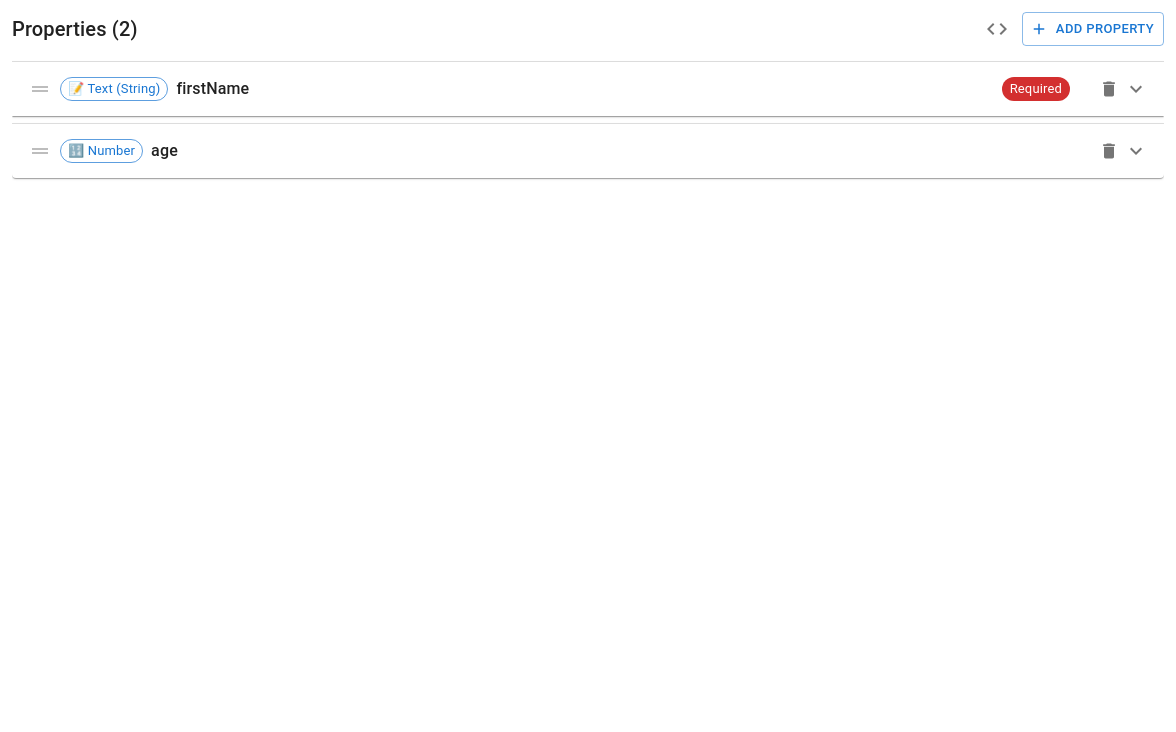
PropertySchemaBuilder › expands property details when clicked
The width and height of the screenshot is (1176, 732).
Click the text "firstName" at (213, 89), box [176,77,249,101]
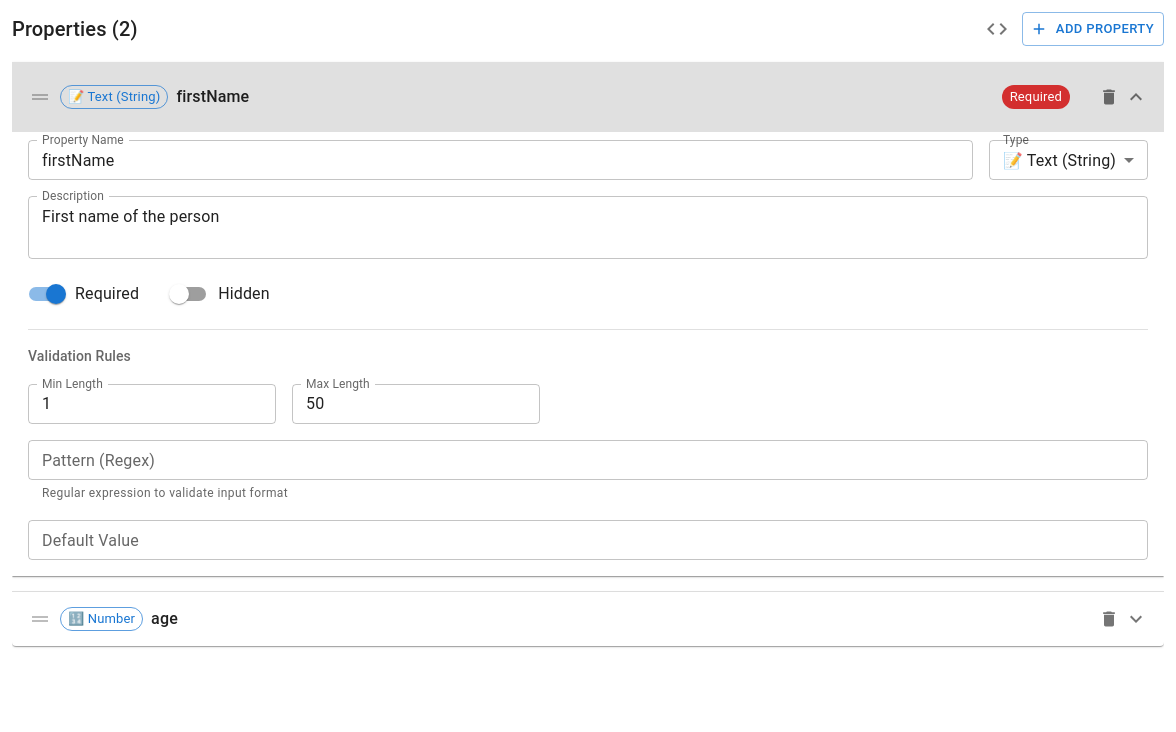
Now the field showing "firstName" is shown, box [28,140,973,180]
Now the text box showing "First name of the person" is shown, box [42,204,1134,250]
